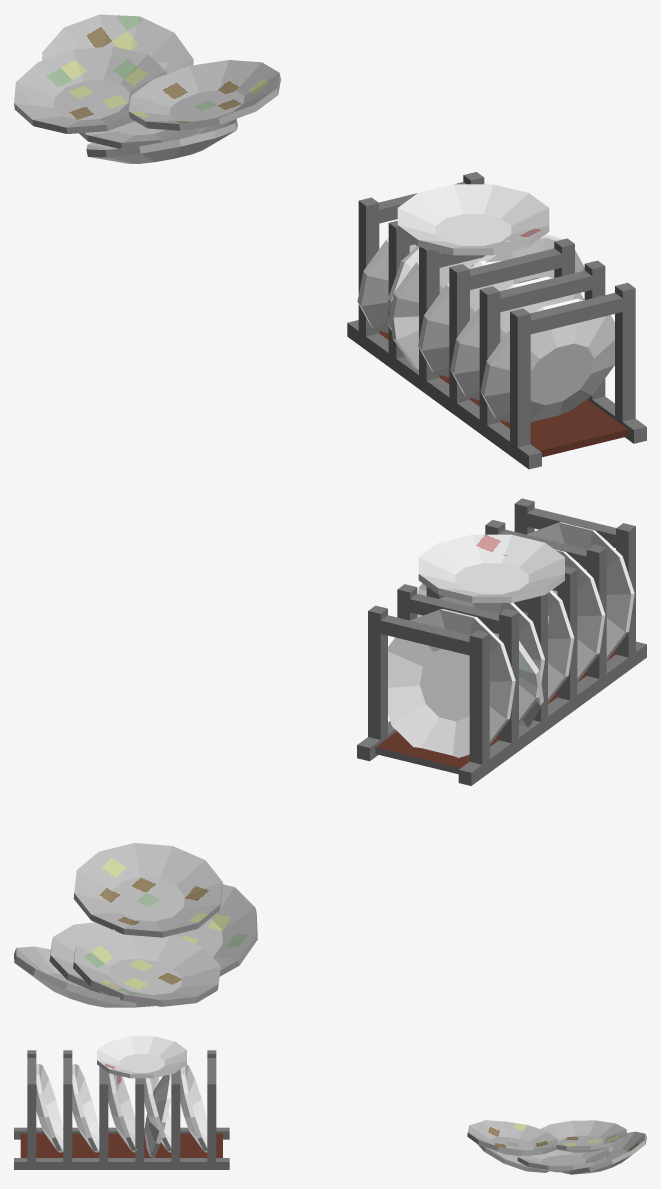
File: dishes.gltf
3 views of the same model, one above another, from view 1: azimuth 30°, elevation 25°; view 2: azimuth 150°, elevation 25°; view 3: azimuth 270°, elevation 25° (orthographic). The views are drawn at different scales.
Parts seen in each view (by area): view 1: cylinder (×13), cuboid (×13), base; view 2: cylinder (×12), cuboid (×12), base; view 3: cylinder (×12), cuboid (×11), base.
Part boxes in pixels (x1,y1,x2,y2): cylinder (×13): (14,14,614,422); cuboid (×13): (347,197,646,469); base: (379,330,628,457); cylinder (×12): (14,522,634,1007); cuboid (×12): (368,508,646,785); base: (375,649,615,774); cylinder (×12): (36,1036,646,1174); cuboid (×11): (14,1058,229,1169); base: (20,1133,222,1157).
Bounding box in the file's own units: 0.0901 × 0.0822 × 0.4401.
Materials: 2 (2 with a texture image).
